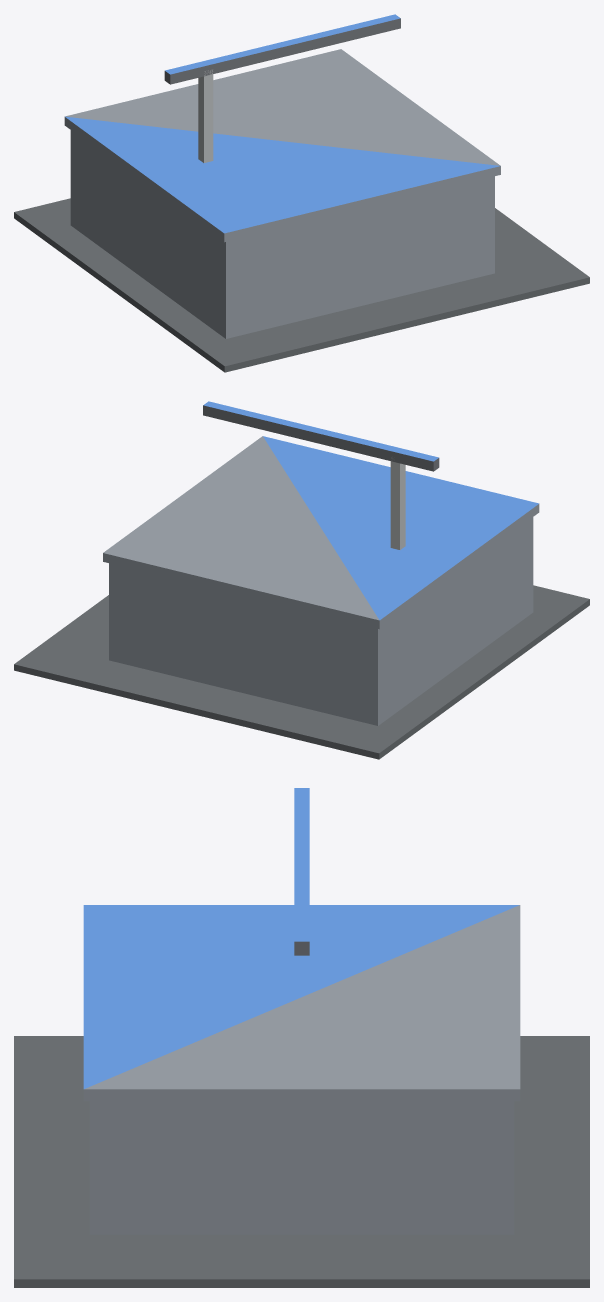
Rendered from veyran_construction_center.glb.
3 renders of one model, top to bottom at view 1: azimuth 30°, elevation 25°; view 2: azimuth 150°, elevation 25°; view 3: azimuth 270°, elevation 25°, orthographic. The views are drawn at different scales.
Parts seen in each view (by area): view 1: hull, crane; view 2: hull, crane; view 3: hull, crane.
Part boxes in pixels (<box>): hull: <box>14,49,589,372</box>; crane: <box>164,14,400,162</box>; hull: <box>14,436,589,759</box>; crane: <box>203,401,439,549</box>; hull: <box>14,905,589,1287</box>; crane: <box>294,788,309,955</box>.
Bounding box in the file's own units: 15.2 × 8.4 × 15.2.
